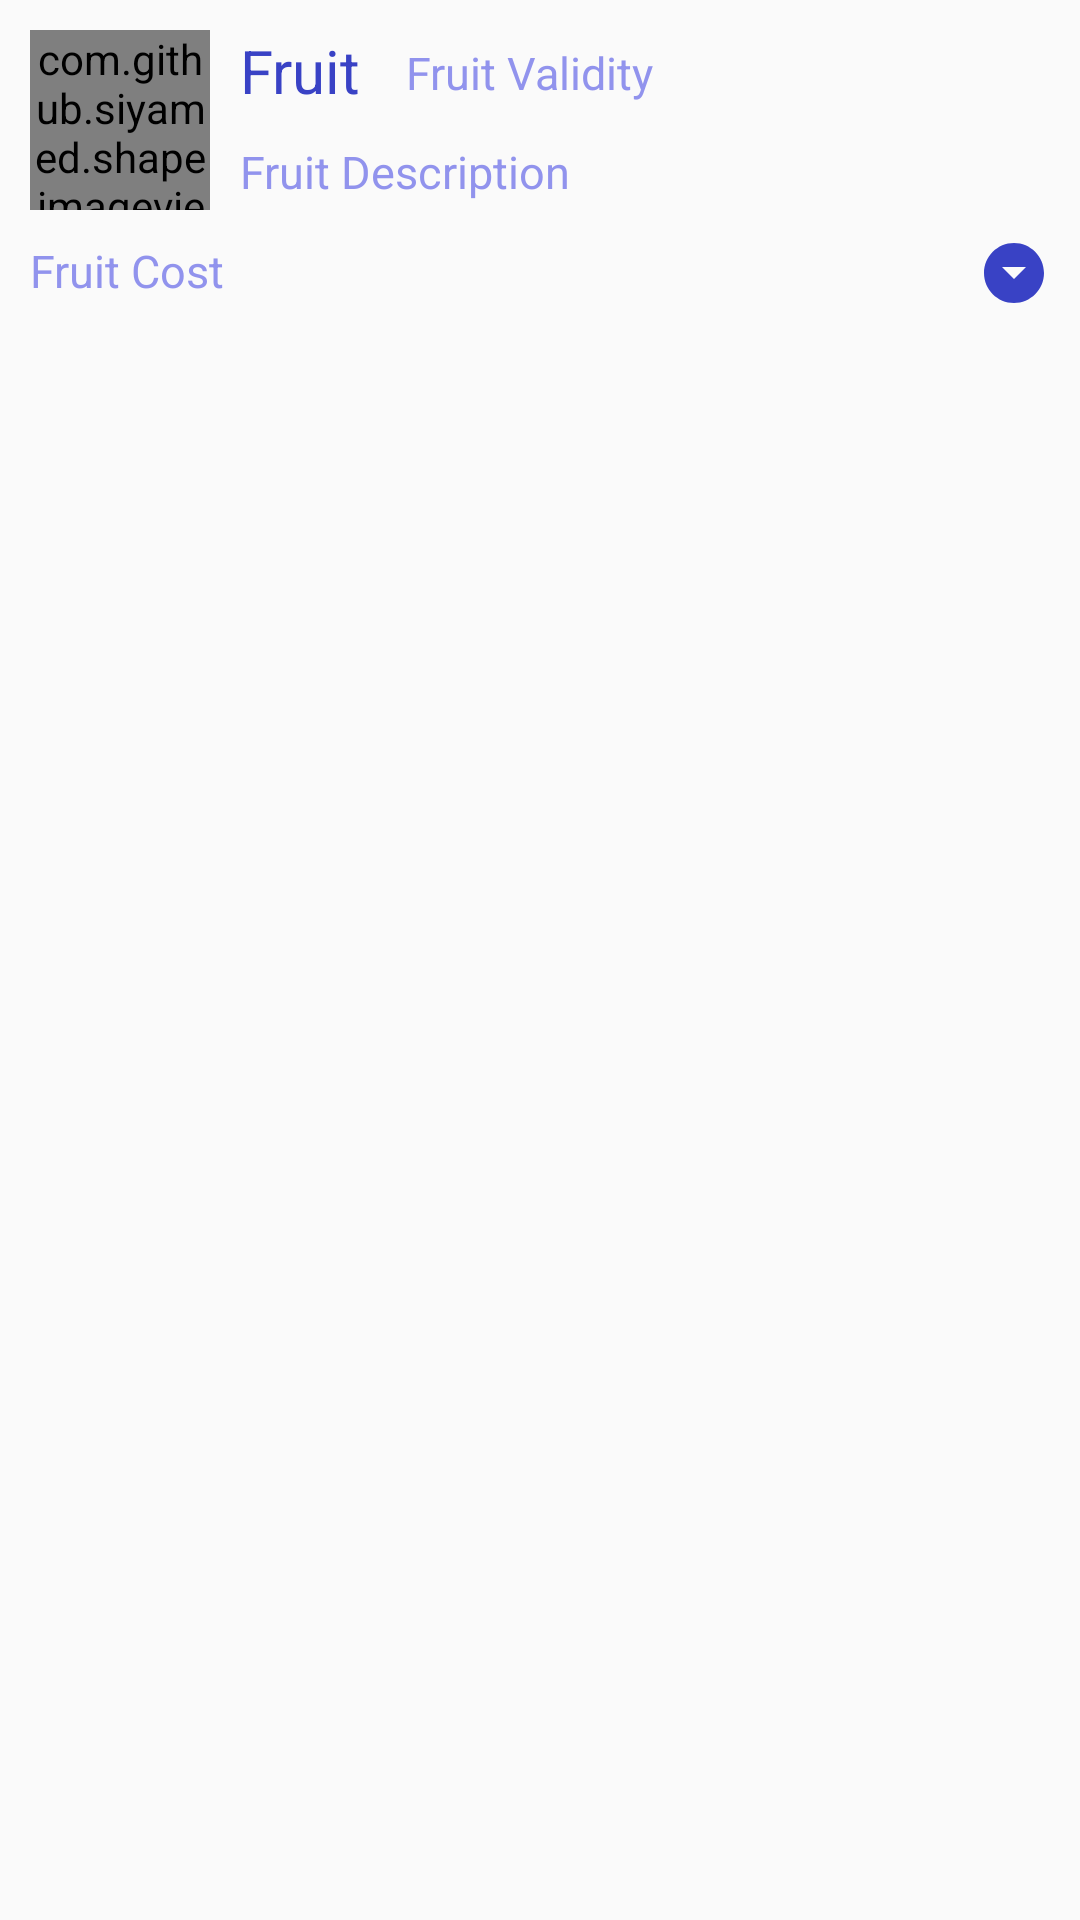

Icon click points for this 1080 x 1920 phone screenshot, format (x,y):
drop down: (1014,273)
